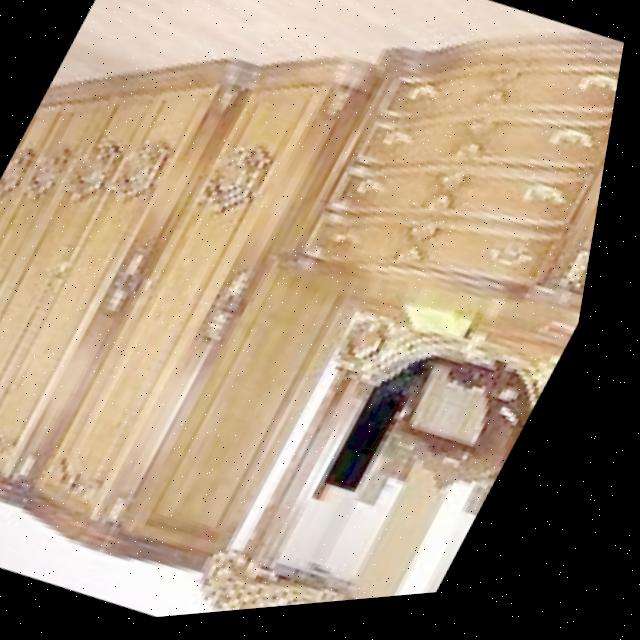dolap: (16, 26, 484, 611), (260, 0, 637, 404)
